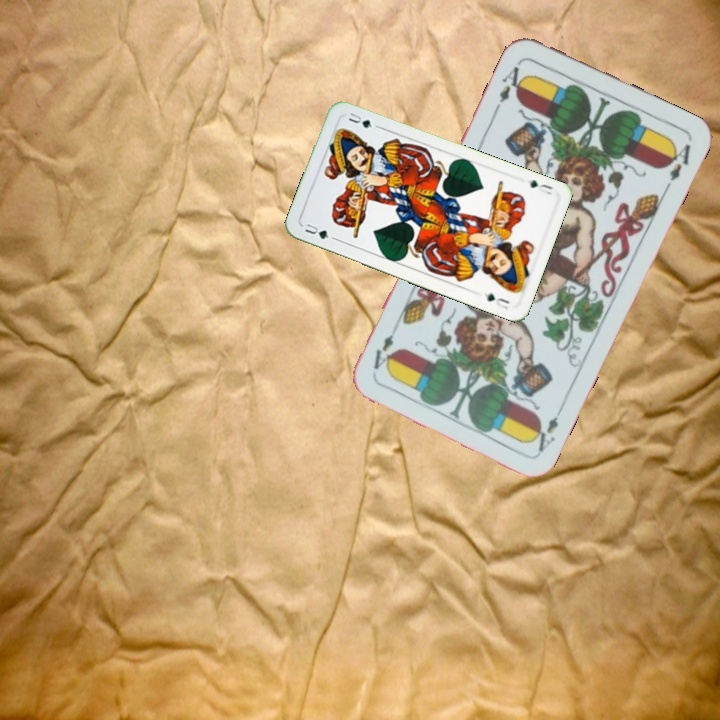EA: (527, 400, 567, 455), (491, 57, 530, 112)
GU: (301, 219, 338, 242), (526, 176, 556, 197)
